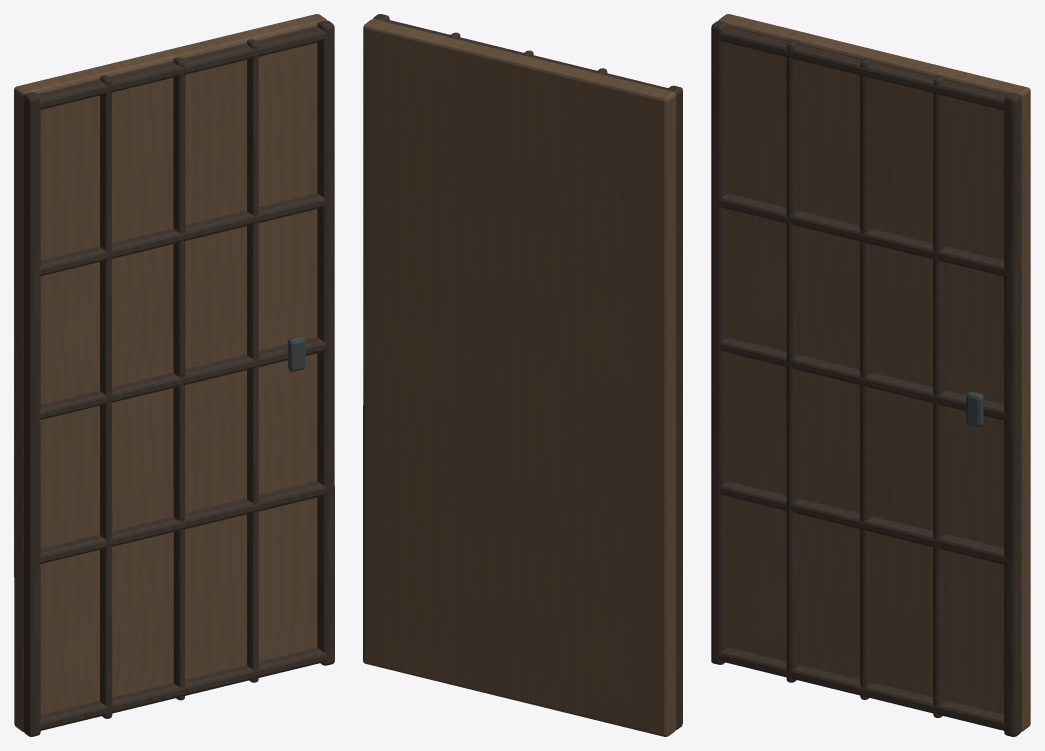
File: AR_Door_Wood_1m.glb
The picture shows the model from 3 angles, left to right: view 1: azimuth 30°, elevation 25°; view 2: azimuth 150°, elevation 25°; view 3: azimuth 330°, elevation 25°; orthographic projection.
Visible parts, largest first — view 1: AR_Door_Wood_1m; view 2: AR_Door_Wood_1m; view 3: AR_Door_Wood_1m.
Part boxes in pixels (x1,y1,x2,y2): AR_Door_Wood_1m: [14, 14, 334, 736]; AR_Door_Wood_1m: [363, 14, 682, 736]; AR_Door_Wood_1m: [711, 14, 1030, 736].
Size of the model in its own units: 1 by 2 by 0.1145.
Materials: 3 (2 with a texture image).
